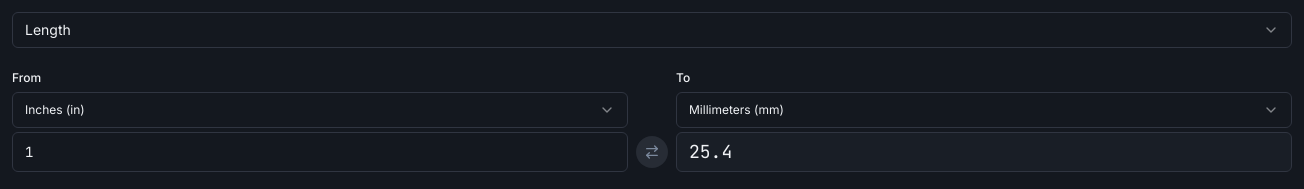
UnitConverter › converts inches to millimeters by default and swaps correctly
Expected: the text "25.4" is shown, [676,132,1292,172]
Step 1. Click the button named "Swap units" → (652, 152), box [636,136,668,168]
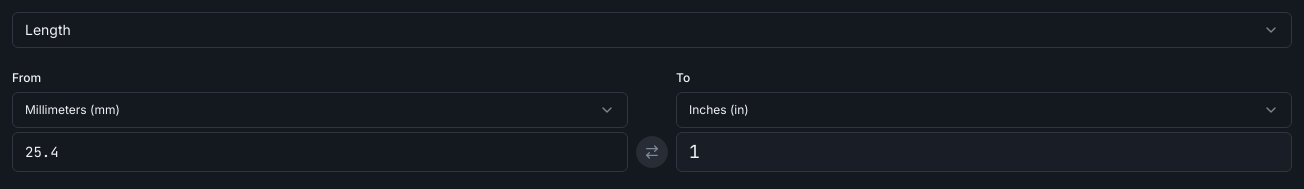
Result: the number field showing "25.4" is shown at [12,132,628,172]
Result: the text "1" is shown at [676,132,1292,172]
